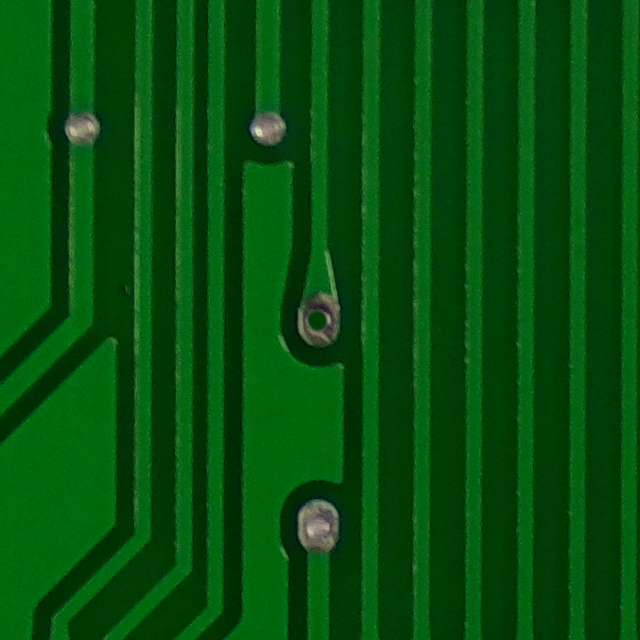missing_hole: (290, 287, 351, 353)
